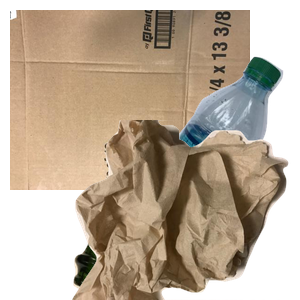cardboard: (10, 10, 250, 190)
glass: (71, 152, 260, 300)
plastic: (142, 54, 300, 234)
trash: (70, 120, 300, 300)
